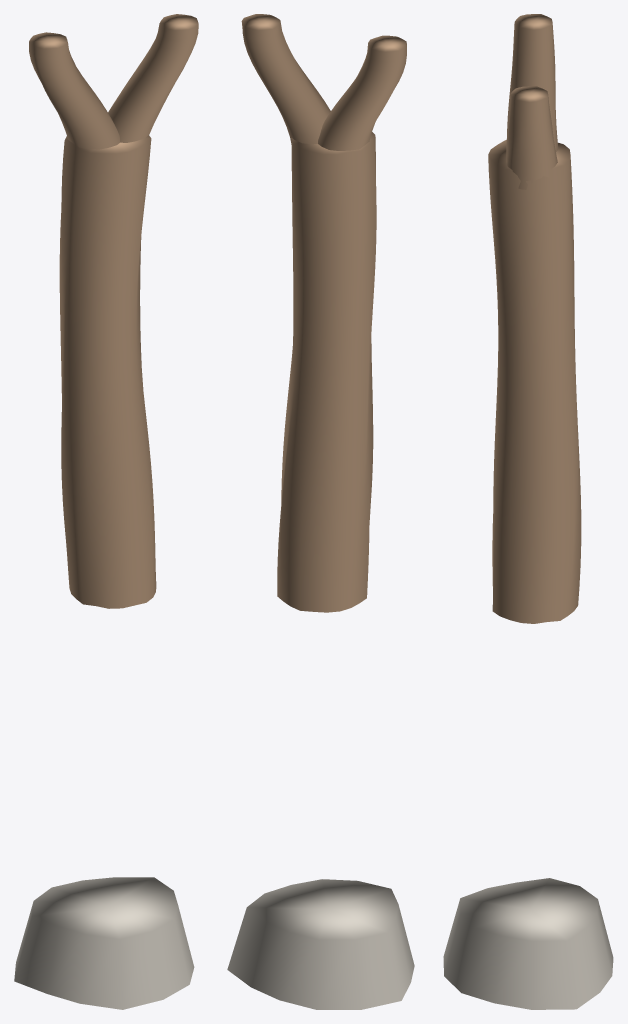
The model's file is bagana-f2-3x10x3-v2.glb.
The picture shows the model from 3 angles, left to right: view 1: azimuth 30°, elevation 25°; view 2: azimuth 150°, elevation 25°; view 3: azimuth 270°, elevation 25°; orthographic projection. The views are drawn at different scales.
Parts seen in each view (by area): view 1: bagana_wood, bagana_stone; view 2: bagana_wood, bagana_stone; view 3: bagana_wood, bagana_stone.
Boxes of the visible parts, x1=… form: bagana_wood: x1=29, y1=14, x2=198, y2=608; bagana_stone: x1=14, y1=877, x2=194, y2=1009; bagana_wood: x1=241, y1=14, x2=406, y2=612; bagana_stone: x1=227, y1=879, x2=414, y2=1009; bagana_wood: x1=488, y1=14, x2=581, y2=623; bagana_stone: x1=443, y1=878, x2=613, y2=1009.
Size of the model in its own units: 0.7085 by 3.75 by 0.6269.
